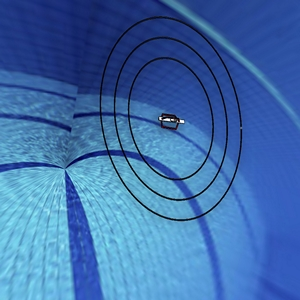circle: (90, 10, 252, 227)
submarine: (146, 104, 192, 145)
